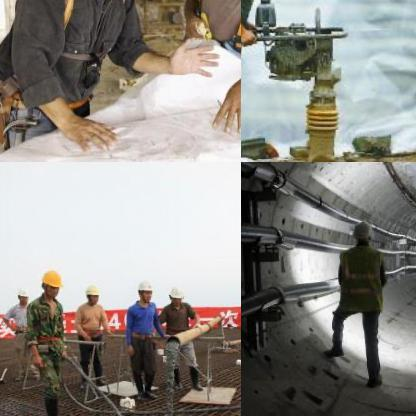Helmet: (37, 263, 63, 299), (352, 219, 372, 245), (135, 274, 153, 302), (165, 280, 185, 304), (83, 278, 101, 303), (18, 283, 28, 306)
